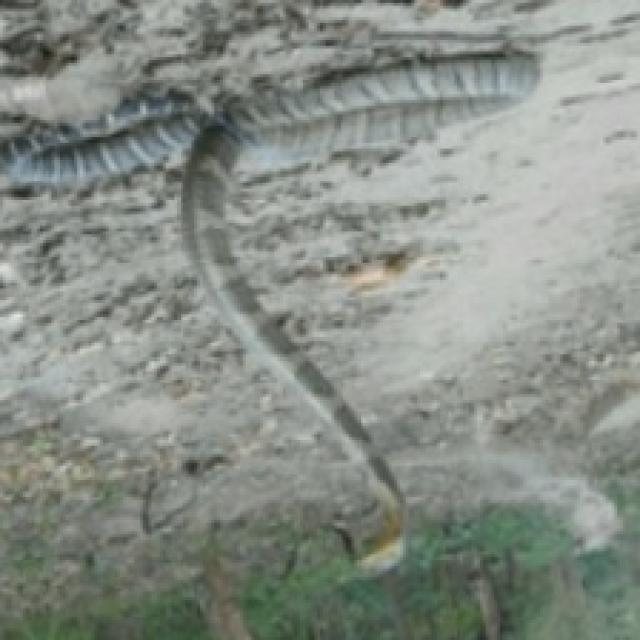king cobra: (0, 34, 534, 589)
